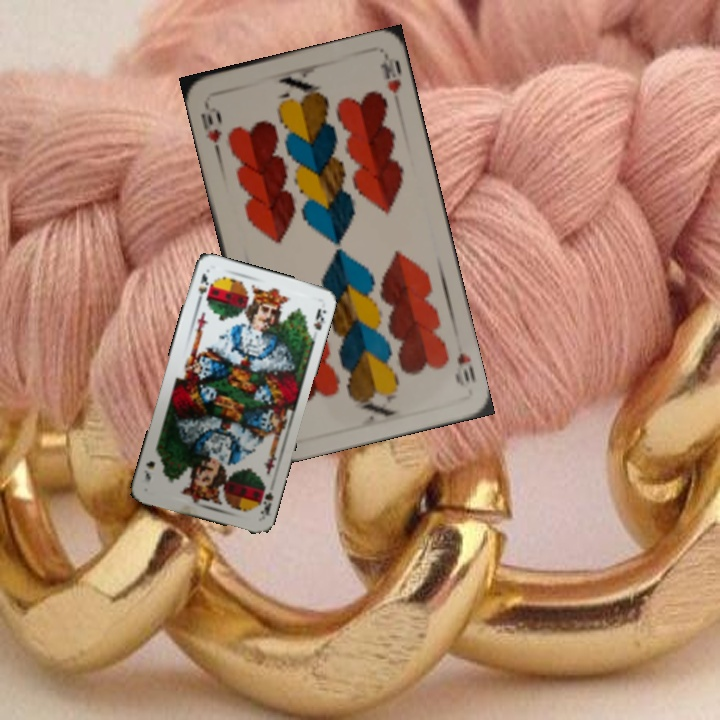H10: (197, 97, 225, 155), (451, 348, 478, 389)
SK: (253, 480, 276, 518), (193, 269, 211, 308)
